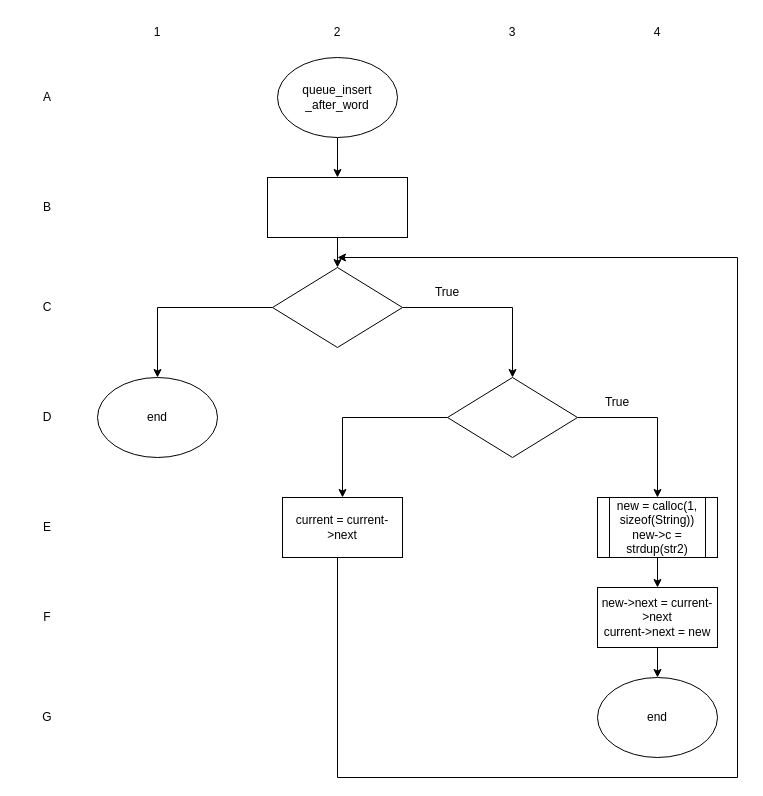
Some shapes in this 763 by 796 pixel diagram are drawn without their labels. Here are the shapes that lost their labels. From the top down, the centre of each, then its label:
At (337,207): "queue str str2 current = queue->head".
At (337,307): "current".
At (512,417): "!strcmp(current->c,str)".
